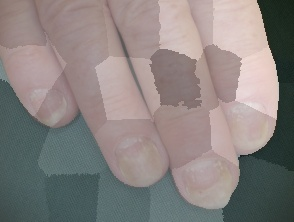Nail_psoriasis: (178, 153, 241, 216), (108, 135, 170, 194), (216, 97, 274, 156)
